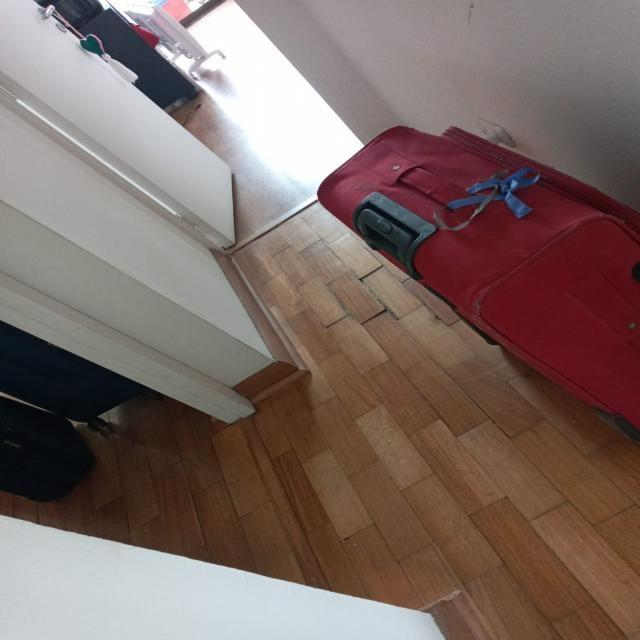Suitcase: (319, 121, 640, 450)
